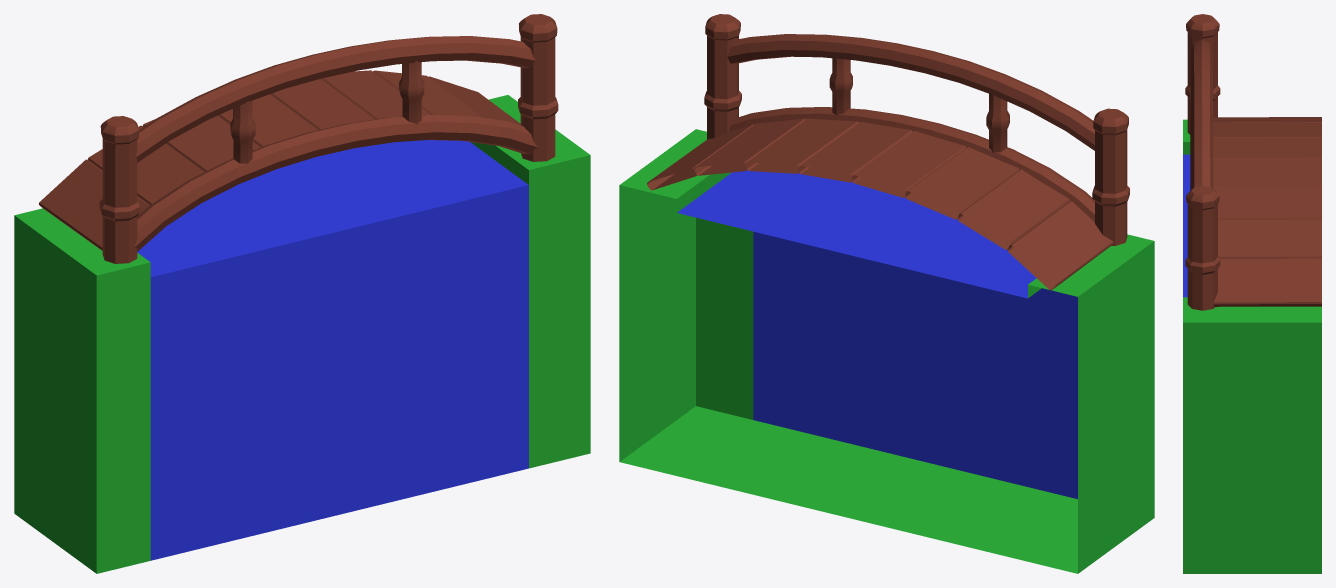
File: module-edge_river_bridge_002.glb
3 views of the same model, side by side, from view 1: azimuth 30°, elevation 25°; view 2: azimuth 150°, elevation 25°; view 3: azimuth 270°, elevation 25° (orthographic). The views are drawn at different scales.
Visible parts, largest first — view 1: module-edge_river_bridge_002; view 2: module-edge_river_bridge_002; view 3: module-edge_river_bridge_002.
Boxes of the visible parts, box(x1,y1,x2,y2) form: module-edge_river_bridge_002: box(14, 14, 590, 573); module-edge_river_bridge_002: box(619, 14, 1154, 573); module-edge_river_bridge_002: box(1183, 14, 1321, 573).
Size of the model in its own units: 0.866 by 0.7618 by 0.2503.
